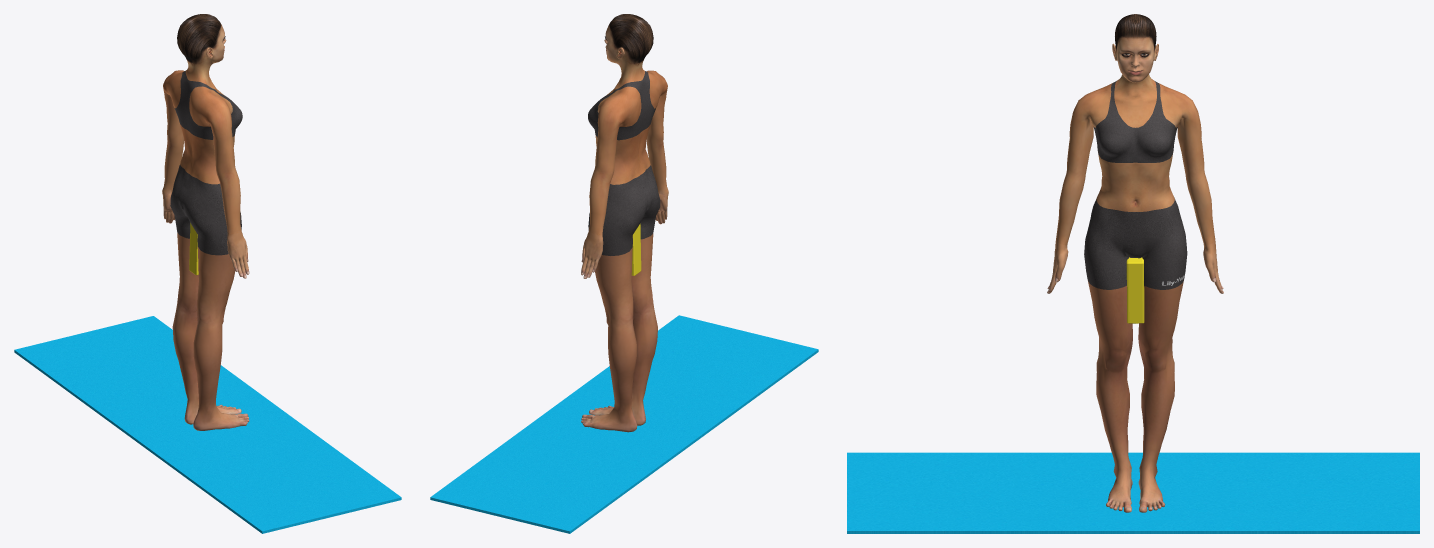
File: tadasana.glb
3 renders of one model, left to right at view 1: azimuth 30°, elevation 25°; view 2: azimuth 150°, elevation 25°; view 3: azimuth 270°, elevation 25°, orthographic. The views are drawn at different scales.
Parts seen in each view (by area): view 1: Mat-one-piece_jpg-material, Lily_Texture01_06_2016_jpg-material; view 2: Mat-one-piece_jpg-material, Lily_Texture01_06_2016_jpg-material; view 3: Mat-one-piece_jpg-material, Lily_Texture01_06_2016_jpg-material, Foam_Purple_Texture_jpg-material.
Boxes of the visible parts, x1,y1,x2,y2 form: Mat-one-piece_jpg-material: [14, 316, 401, 533]; Lily_Texture01_06_2016_jpg-material: [162, 14, 249, 430]; Mat-one-piece_jpg-material: [430, 315, 818, 533]; Lily_Texture01_06_2016_jpg-material: [581, 14, 668, 432]; Mat-one-piece_jpg-material: [847, 452, 1419, 533]; Lily_Texture01_06_2016_jpg-material: [1047, 14, 1223, 512]; Foam_Purple_Texture_jpg-material: [1126, 257, 1144, 323].
Bounding box in the file's own units: 2 × 5.63 × 6.17.
4 materials, 3 textured.
